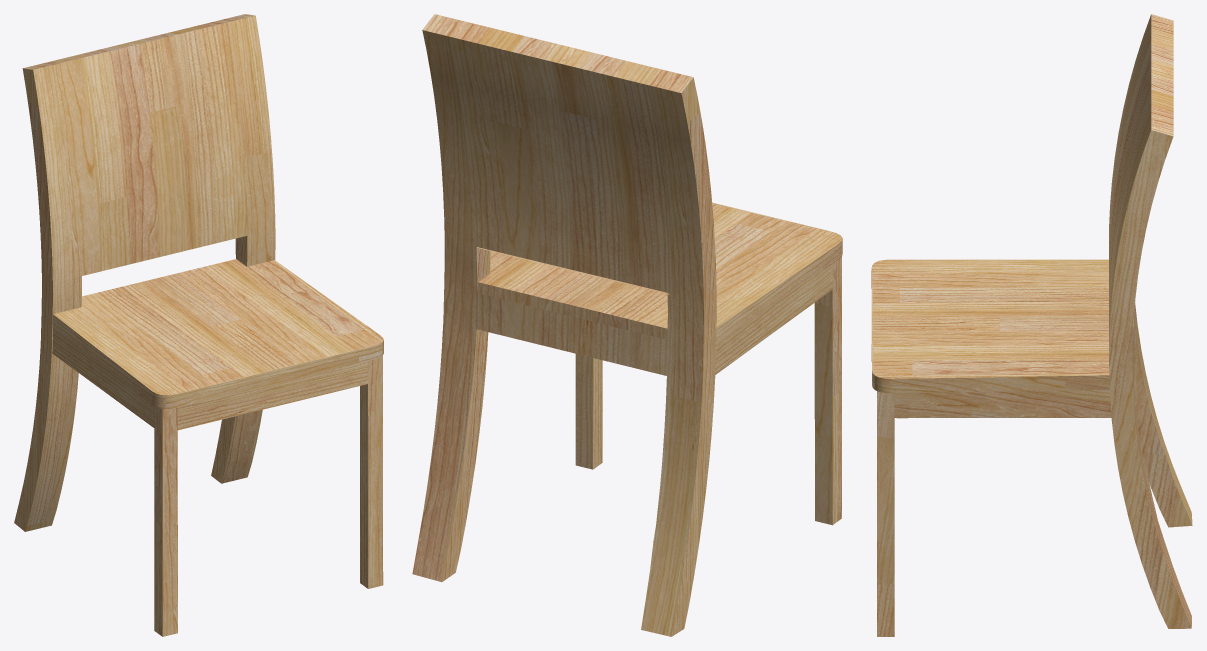
The model's file is curved_chair.glb.
3 renders of one model, left to right at view 1: azimuth 30°, elevation 25°; view 2: azimuth 150°, elevation 25°; view 3: azimuth 270°, elevation 25°, orthographic. The views are drawn at different scales.
Parts seen in each view (by area): view 1: curved chair_Material #46_0; view 2: curved chair_Material #46_0; view 3: curved chair_Material #46_0.
Boxes of the visible parts, left/top/right/bottom form: curved chair_Material #46_0: left=14, top=14, right=383, bottom=636; curved chair_Material #46_0: left=412, top=14, right=842, bottom=636; curved chair_Material #46_0: left=871, top=14, right=1192, bottom=636.
Bounding box in the file's own units: 0.524 × 1.04 × 0.5965.
1 material, 1 textured.
